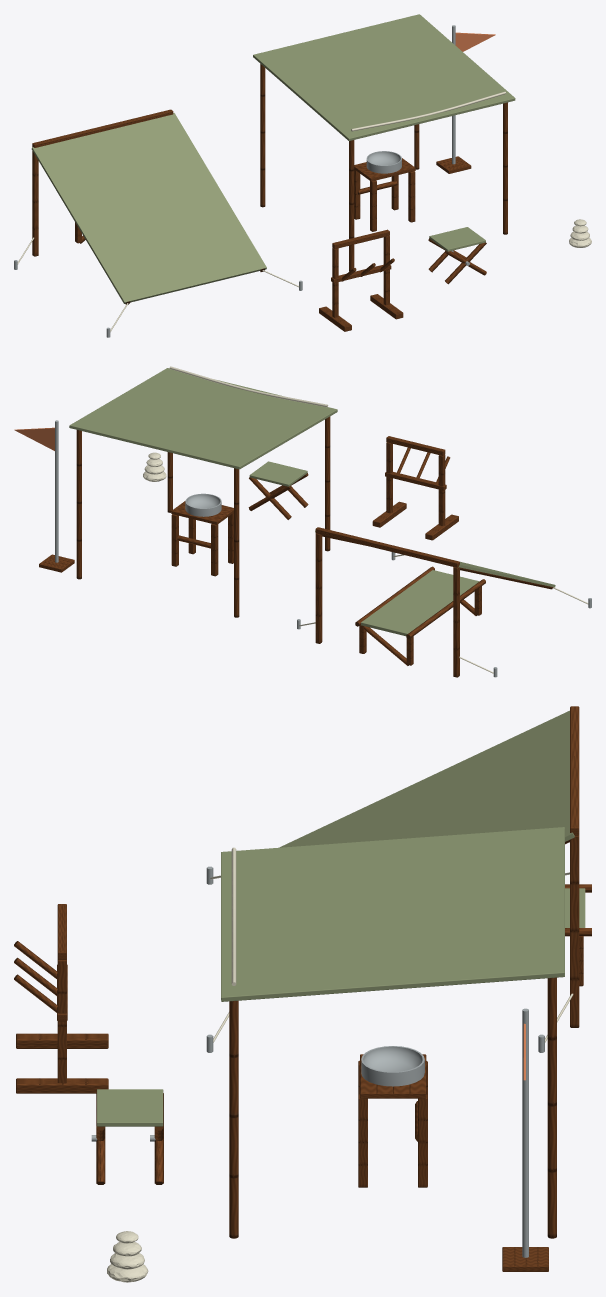
The model's file is wilderness-survival-camp-rainy-trail-rest-d1d734c5__21978.glb.
3 renders of one model, top to bottom at view 1: azimuth 30°, elevation 25°; view 2: azimuth 150°, elevation 25°; view 3: azimuth 270°, elevation 25°, orthographic. The views are drawn at different scales.
Parts seen in each view (by area): view 1: 000-lean-to-shelter/1, 002-rain-awning/1, 002-rain-awning/0, 005-boot-drying-rack/0, 003-folding-washstand/0, 000-lean-to-shelter/0, 004-folding-camp-stool/2, 003-folding-washstand/1, 004-folding-camp-stool/0, 002-rain-awning/2, 007-trail-cairn/0, 006-signal-pennant/1; view 2: 002-rain-awning/1, 001-raised-camp-cot/1, 000-lean-to-shelter/0, 002-rain-awning/0, 005-boot-drying-rack/0, 003-folding-washstand/0, 001-raised-camp-cot/0, 004-folding-camp-stool/2, 004-folding-camp-stool/0, 003-folding-washstand/1, 006-signal-pennant/0, 002-rain-awning/2 (+3 smaller); view 3: 002-rain-awning/1, 000-lean-to-shelter/1, 005-boot-drying-rack/0, 002-rain-awning/0, 000-lean-to-shelter/0, 003-folding-washstand/0, 004-folding-camp-stool/2, 003-folding-washstand/1, 006-signal-pennant/0, 007-trail-cairn/0, 004-folding-camp-stool/0, 006-signal-pennant/2 (+1 smaller).
Boxes of the visible parts, x1,y1,x2,y2 form: 000-lean-to-shelter/1: (31,113,266,303); 002-rain-awning/1: (253,14,515,140); 002-rain-awning/0: (260,64,507,271); 005-boot-drying-rack/0: (319,229,403,331); 003-folding-washstand/0: (354,158,415,231); 000-lean-to-shelter/0: (32,109,264,304); 004-folding-camp-stool/2: (429,227,485,251); 003-folding-washstand/1: (366,151,401,173); 004-folding-camp-stool/0: (428,238,486,284); 002-rain-awning/2: (351,91,505,131); 007-trail-cairn/0: (569,219,591,247); 006-signal-pennant/1: (455,32,495,51); 002-rain-awning/1: (69,368,337,469); 001-raised-camp-cot/1: (360,570,479,636); 000-lean-to-shelter/0: (315,527,553,677); 002-rain-awning/0: (76,416,330,617); 005-boot-drying-rack/0: (372,436,458,540); 003-folding-washstand/0: (171,501,233,576); 001-raised-camp-cot/0: (355,566,485,665); 004-folding-camp-stool/2: (249,461,307,486); 004-folding-camp-stool/0: (248,473,308,519); 003-folding-washstand/1: (185,493,221,516); 006-signal-pennant/0: (55,420,58,562); 002-rain-awning/2: (169,366,328,407); 002-rain-awning/1: (221,827,564,1001); 000-lean-to-shelter/1: (279,710,574,847); 005-boot-drying-rack/0: (14,904,108,1093); 002-rain-awning/0: (229,977,556,1238); 000-lean-to-shelter/0: (565,706,579,1027); 003-folding-washstand/0: (358,1054,427,1187); 004-folding-camp-stool/2: (97,1089,163,1126); 003-folding-washstand/1: (361,1046,424,1086); 006-signal-pennant/0: (522,1008,528,1257); 007-trail-cairn/0: (107,1231,148,1282); 004-folding-camp-stool/0: (96,1093,163,1184); 006-signal-pennant/2: (502,1247,548,1271).
Size of the model in its own units: 7.44 by 2.24 by 4.36.
5 materials, 1 textured.
